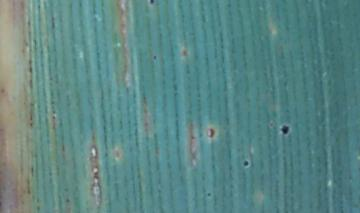tarspot: (279, 124, 290, 136), (205, 127, 215, 139), (179, 48, 188, 57), (242, 159, 249, 168), (205, 191, 212, 197), (152, 54, 157, 61), (148, 1, 155, 5)
